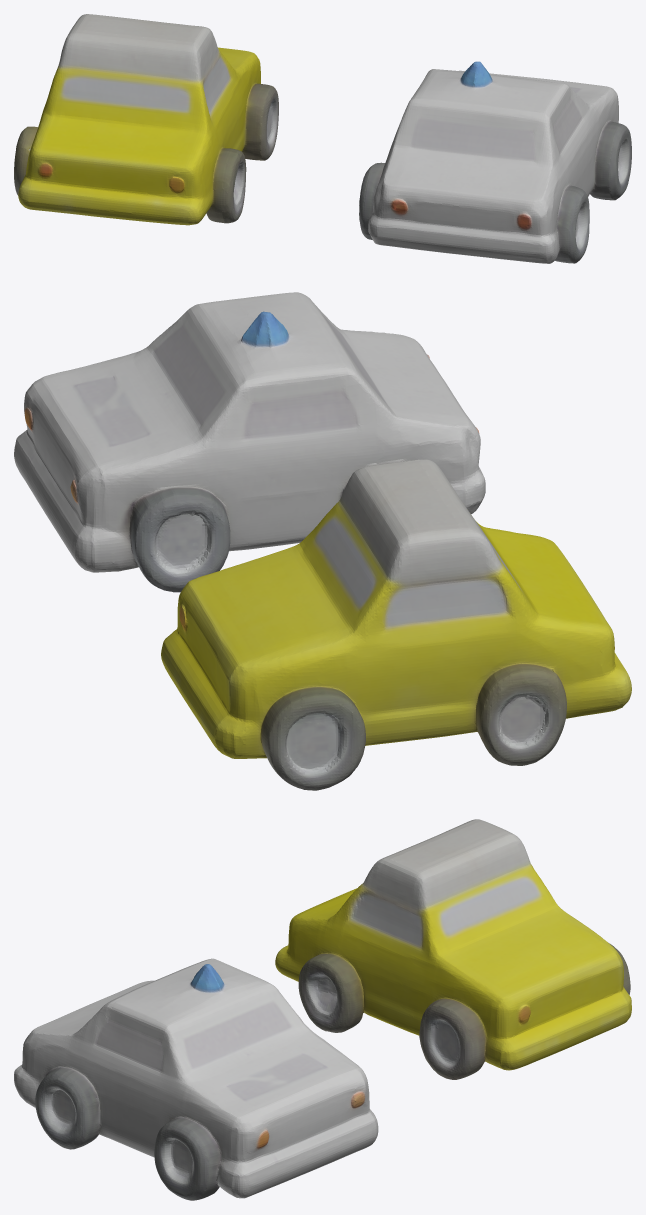
The model's file is sam3d.glb.
The picture shows the model from 3 angles, top to bottom: view 1: azimuth 30°, elevation 25°; view 2: azimuth 150°, elevation 25°; view 3: azimuth 270°, elevation 25°; orthographic projection. The views are drawn at different scales.
Parts seen in each view (by area): view 1: world; view 2: world; view 3: world.
Part boxes in pixels (x1,y1,x2,y2): world: [14, 14, 631, 263]; world: [14, 292, 631, 790]; world: [14, 819, 631, 1200].
Bounding box in the file's own units: 1.04 × 0.3053 × 0.996.
